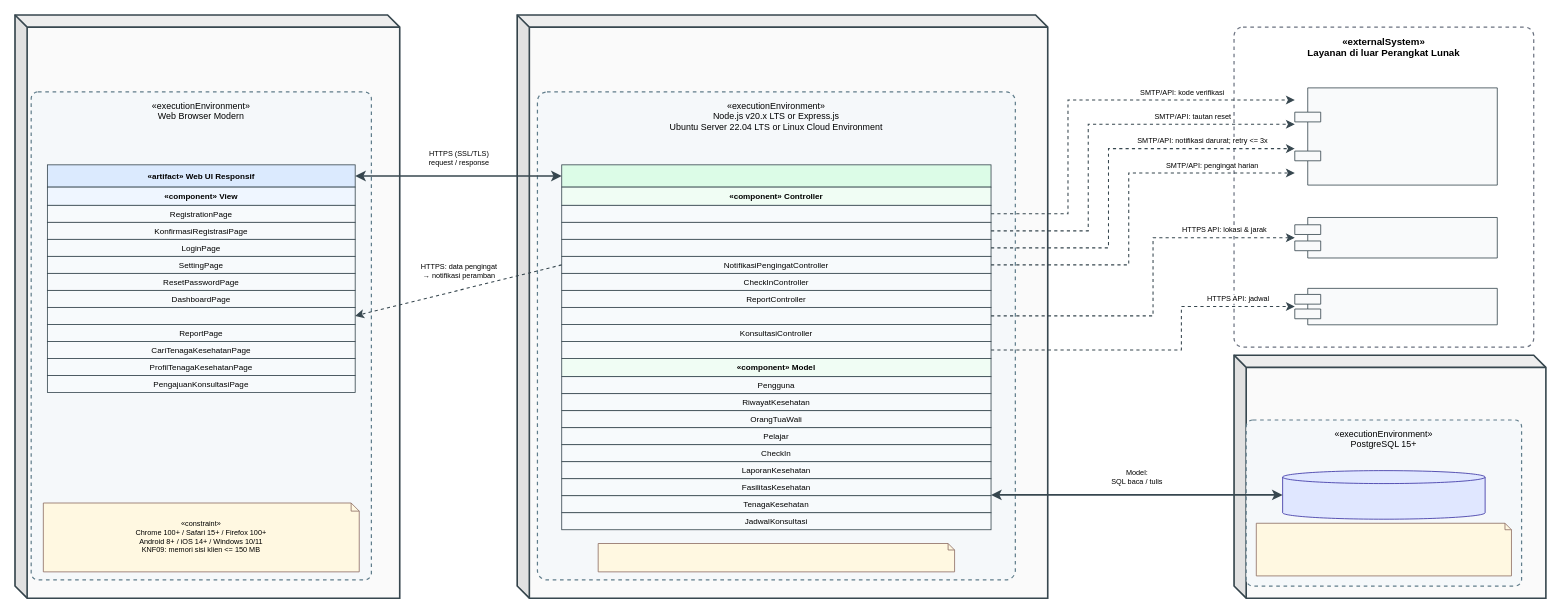
The diagram is 1560 pixels wide and 612 high, and some of its shapes have lost their labels. The box of each missing label's shape, as (x1, y1, x2, y2) in pixels:
AuthController: (561, 205, 991, 222)
CheckInPage: (47, 307, 355, 324)
Geolocation API & Google Maps Platform: (1294, 217, 1497, 258)
Google Calendar API: (1294, 288, 1497, 325)
JadwalKonsultasiController: (561, 341, 991, 358)
NotifikasiDaruratController: (561, 239, 991, 256)
PasswordController: (561, 222, 991, 239)
SMTP or Mail Service (Nodemailer/SendGrid): (1294, 87, 1497, 185)
TenagaKesehatanController: (561, 307, 991, 324)
«artifact» Mahasehat Server Application: (561, 164, 991, 187)
«constraint» KNF01 Data kesehatan dan check-in dienkripsi AES-256 saat tersimpan: (1256, 522, 1511, 576)
«constraint» KNF05: ketersediaan >= 99,5% (24 jam x 7 hari): (597, 543, 955, 572)
«database» MahasehatDB: (1282, 470, 1485, 519)
«device» Node 1: Perangkat Pengguna: (14, 14, 400, 599)
«device» Node 2: Server Aplikasi: (516, 14, 1048, 599)
«device» Node 3: Server Basis Data: (1233, 354, 1546, 599)
